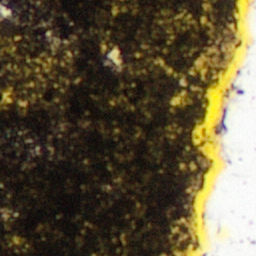cement_matrix: (0, 0, 236, 255), (109, 50, 119, 63), (197, 59, 205, 69), (176, 97, 181, 101)
cracks: (180, 0, 251, 255)
gravel_crushed_stones: (199, 0, 255, 255), (110, 51, 118, 62), (0, 6, 8, 16), (198, 60, 204, 68), (177, 98, 180, 100)
